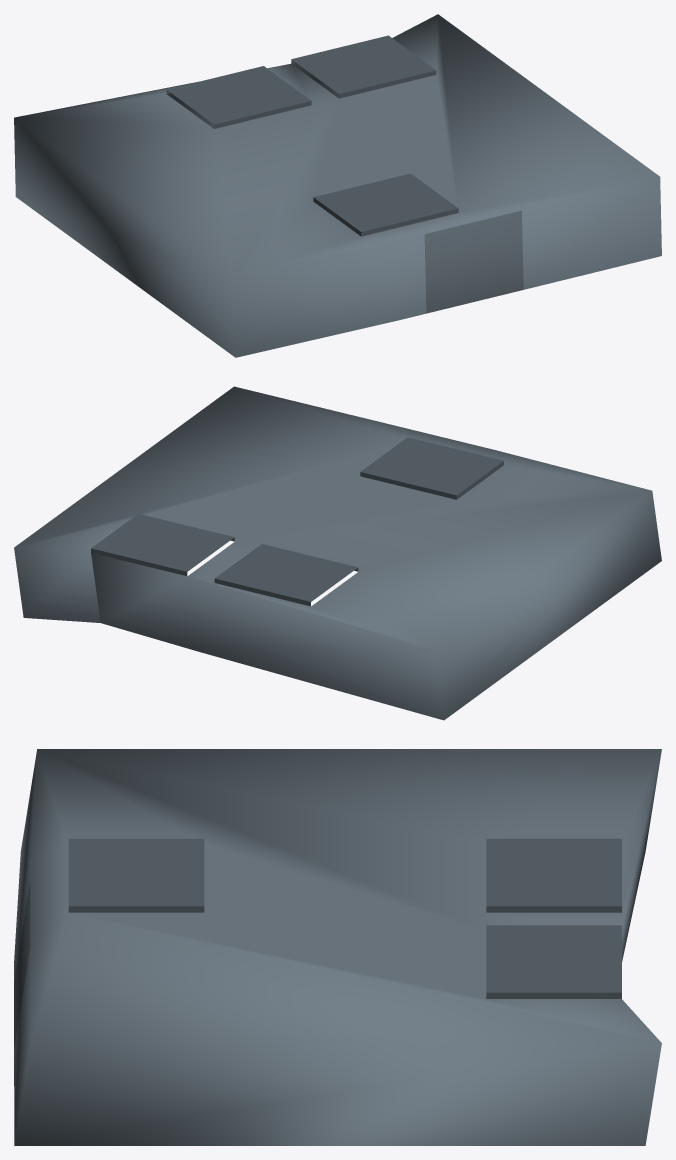
Rendered from Pieza1Puente.fbx.
3 views of the same model, one above another, from view 1: azimuth 30°, elevation 25°; view 2: azimuth 150°, elevation 25°; view 3: azimuth 270°, elevation 25° (orthographic). The views are drawn at different scales.
Parts seen in each view (by area): view 1: Puente.001; view 2: Puente.001; view 3: Puente.001.
Part boxes in pixels (box(x1,y1,x2,y2)): Puente.001: box(14, 14, 661, 357); Puente.001: box(14, 386, 661, 720); Puente.001: box(14, 749, 661, 1145).
Size of the model in its own units: 418 by 77.92 by 386.
